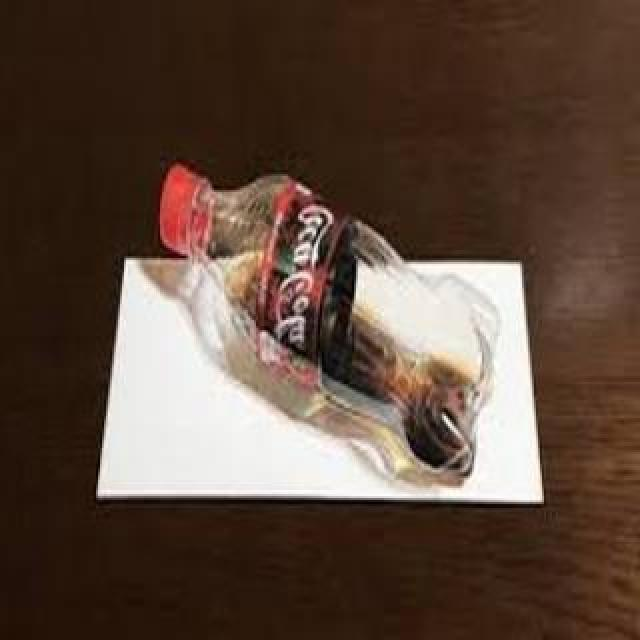Pet_Bottle: (160, 153, 506, 489)
